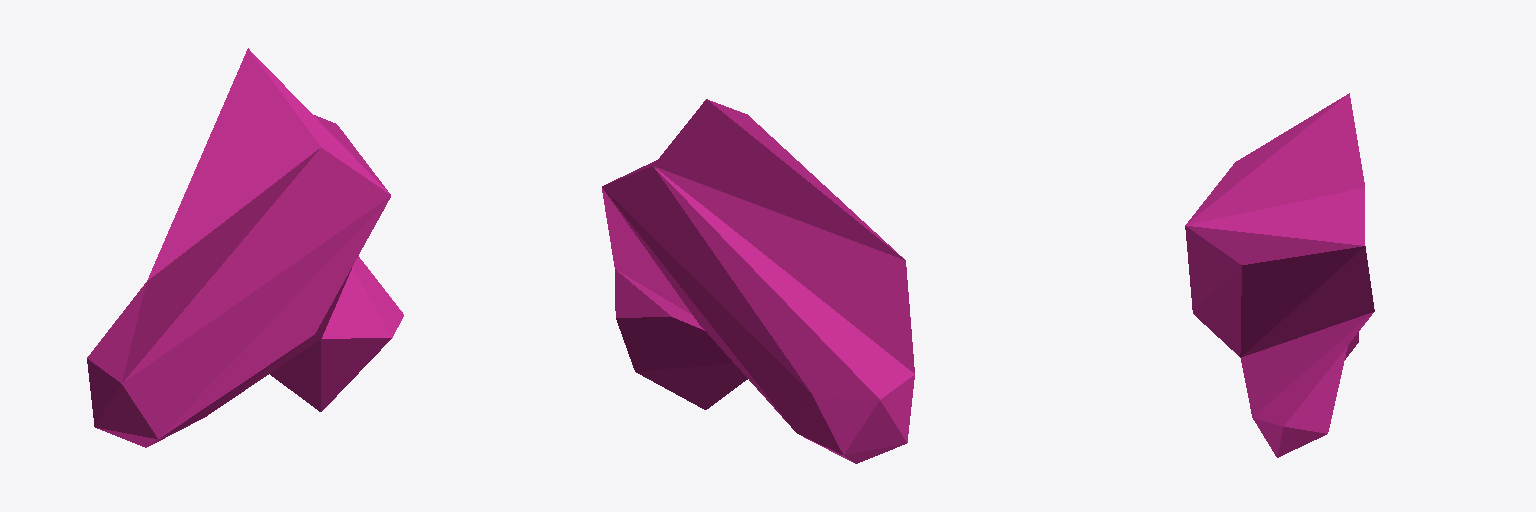
The model's file is kiki-museum-2.obj.
3 views of the same model, side by side, from view 1: azimuth 30°, elevation 25°; view 2: azimuth 150°, elevation 25°; view 3: azimuth 270°, elevation 25° (orthographic).
Parts seen in each view (by area): view 1: Icosphere.001; view 2: Icosphere.001; view 3: Icosphere.001.
Part boxes in pixels (x1,y1,x2,y2): Icosphere.001: (87,48,403,447); Icosphere.001: (602,99,914,463); Icosphere.001: (1185,93,1374,457).
Bounding box in the file's own units: 4.32 × 4.82 × 2.36.